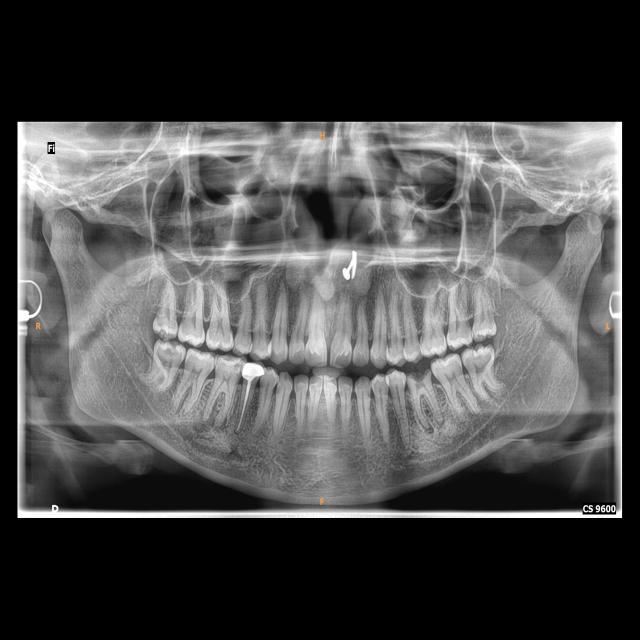dentin-curugu: (304, 349, 324, 369), (333, 349, 352, 370), (406, 370, 431, 385), (288, 349, 304, 362)
kanal-tedavisi: (235, 384, 253, 430)
kaplama: (239, 362, 265, 385)
